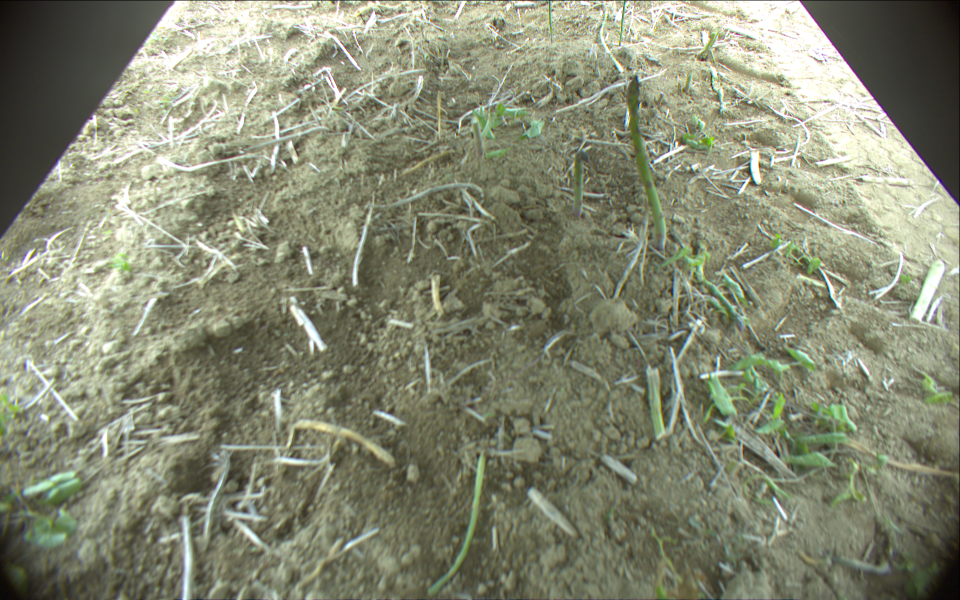aspa: (428, 451, 486, 597), (626, 77, 668, 248), (599, 3, 625, 72), (646, 368, 668, 439), (572, 150, 583, 218), (473, 117, 485, 156), (618, 1, 626, 44), (546, 1, 553, 41)
